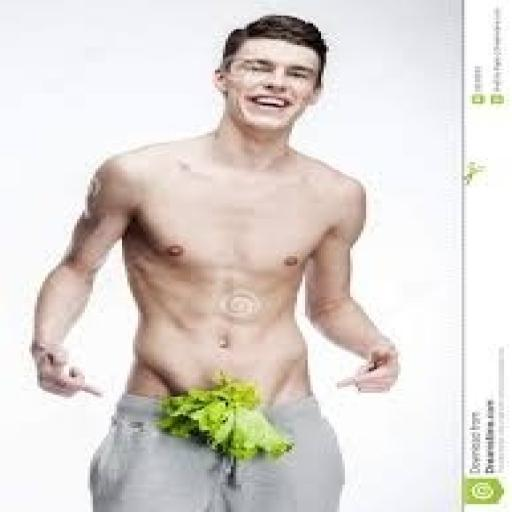laughing: (24, 10, 406, 510)
